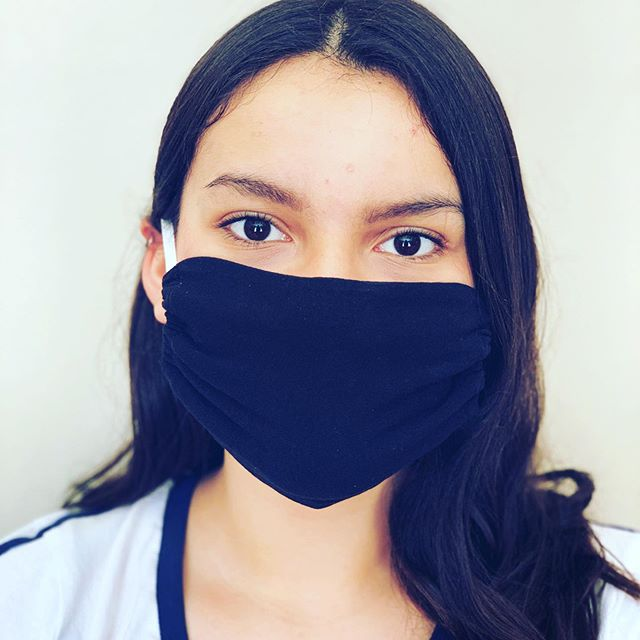homemade: (145, 248, 509, 516)
